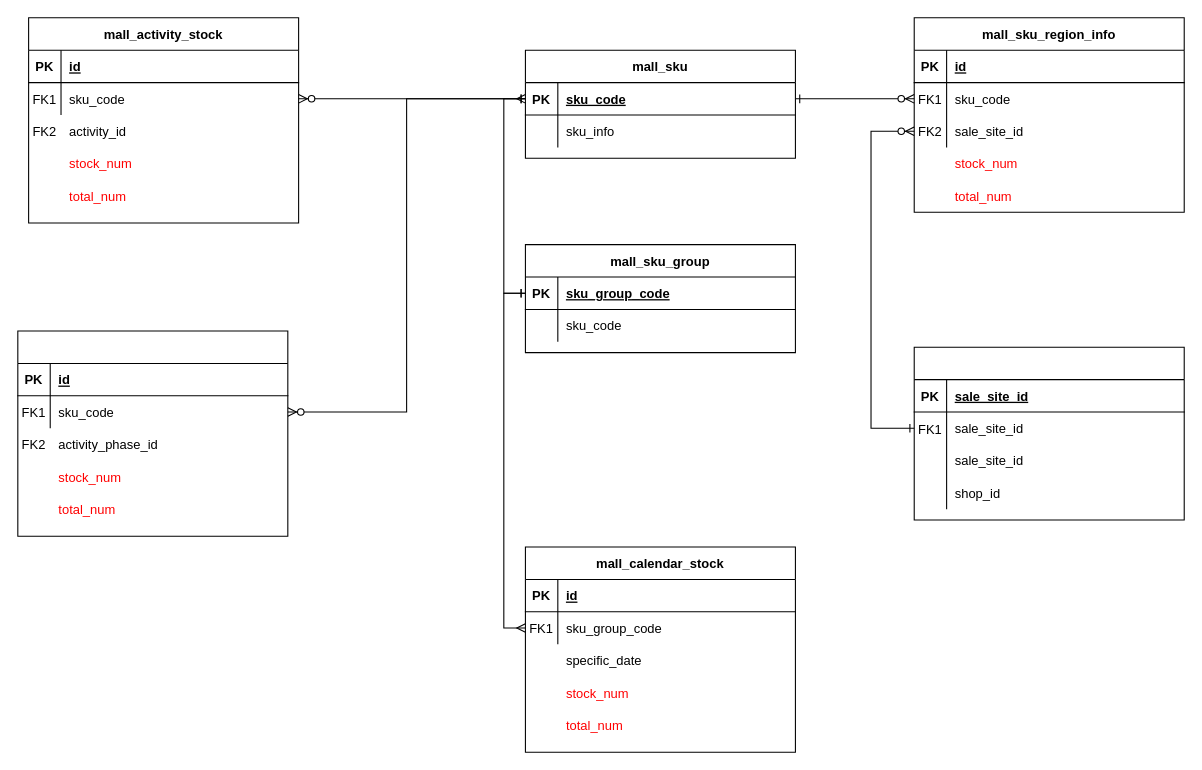
Some shapes in this 1202 by 770 pixel diagram are drawn without their labels. The box of each missing label's shape, as (x1, y1, x2, y2) in pixels:
mall_activity_phase_stock: (17, 330, 288, 536)
mall_sale_site: (913, 346, 1184, 520)
